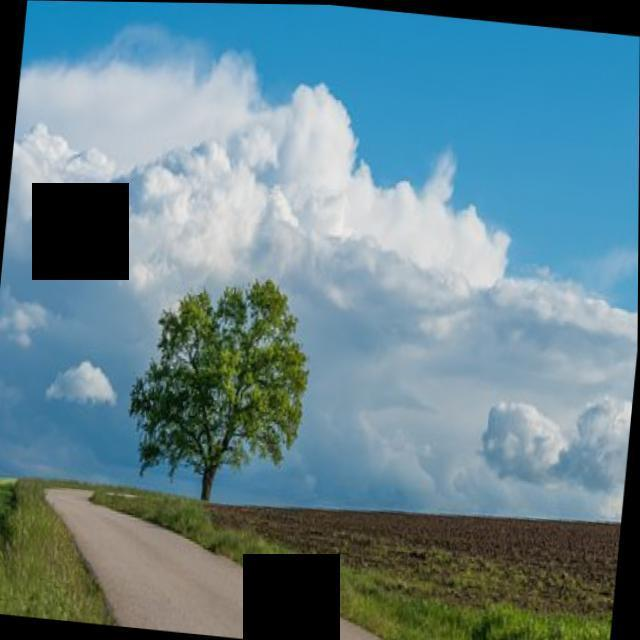tree: (117, 270, 318, 510)
